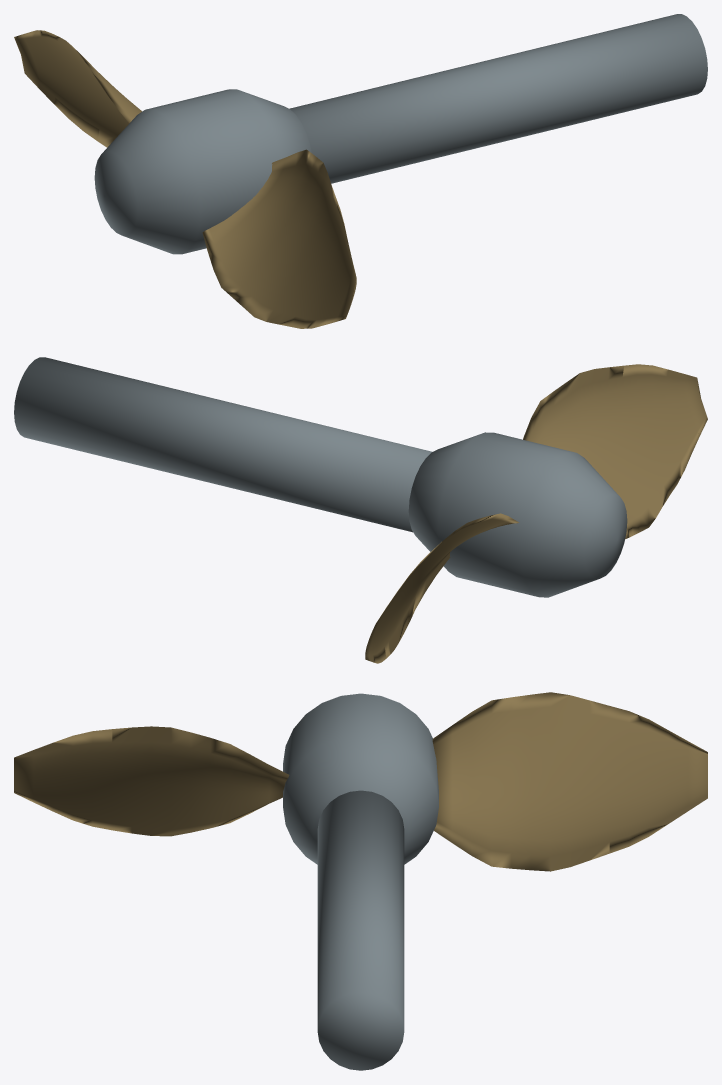
Rendered from PROP_T01_EARLY_LOD0.fbx.
3 renders of one model, top to bottom at view 1: azimuth 30°, elevation 25°; view 2: azimuth 150°, elevation 25°; view 3: azimuth 270°, elevation 25°, orthographic. The views are drawn at different scales.
Parts seen in each view (by area): view 1: PROP_T01_EARLY_LOD0_Shaft.001, PROP_T01_EARLY_LOD0_Hub.001, PROP_T01_EARLY_LOD0_Blade_01.001, PROP_T01_EARLY_LOD0_Blade_00.001; view 2: PROP_T01_EARLY_LOD0_Shaft.001, PROP_T01_EARLY_LOD0_Hub.001, PROP_T01_EARLY_LOD0_Blade_01.001, PROP_T01_EARLY_LOD0_Blade_00.001; view 3: PROP_T01_EARLY_LOD0_Blade_00.001, PROP_T01_EARLY_LOD0_Shaft.001, PROP_T01_EARLY_LOD0_Blade_01.001, PROP_T01_EARLY_LOD0_Hub.001.
Part boxes in pixels (x1,y1,x2,y2): PROP_T01_EARLY_LOD0_Shaft.001: (289,14,707,183); PROP_T01_EARLY_LOD0_Hub.001: (94,89,311,254); PROP_T01_EARLY_LOD0_Blade_01.001: (202,149,356,328); PROP_T01_EARLY_LOD0_Blade_00.001: (14,30,141,147); PROP_T01_EARLY_LOD0_Shaft.001: (14,357,432,532); PROP_T01_EARLY_LOD0_Hub.001: (408,432,627,597); PROP_T01_EARLY_LOD0_Blade_01.001: (523,364,707,539); PROP_T01_EARLY_LOD0_Blade_00.001: (365,513,518,663); PROP_T01_EARLY_LOD0_Blade_00.001: (432,692,707,871); PROP_T01_EARLY_LOD0_Shaft.001: (317,790,404,1070); PROP_T01_EARLY_LOD0_Blade_01.001: (14,726,289,836); PROP_T01_EARLY_LOD0_Hub.001: (283,693,438,864).
Bounding box in the file's own units: 325 × 320 × 73.32.
